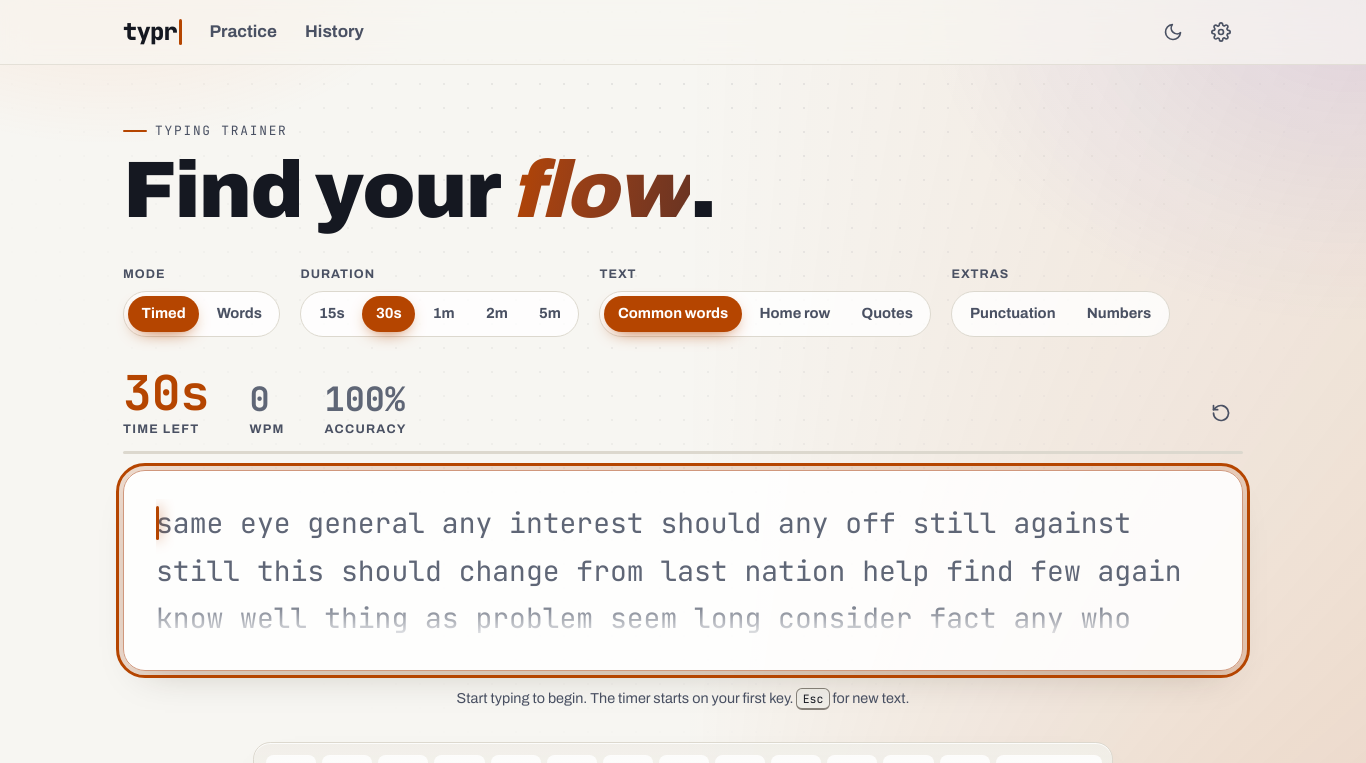
Test: App › home row mode only uses home row keys
Click the radio button labelled "Home row" at (795, 313), box 759,305 -> 830,321
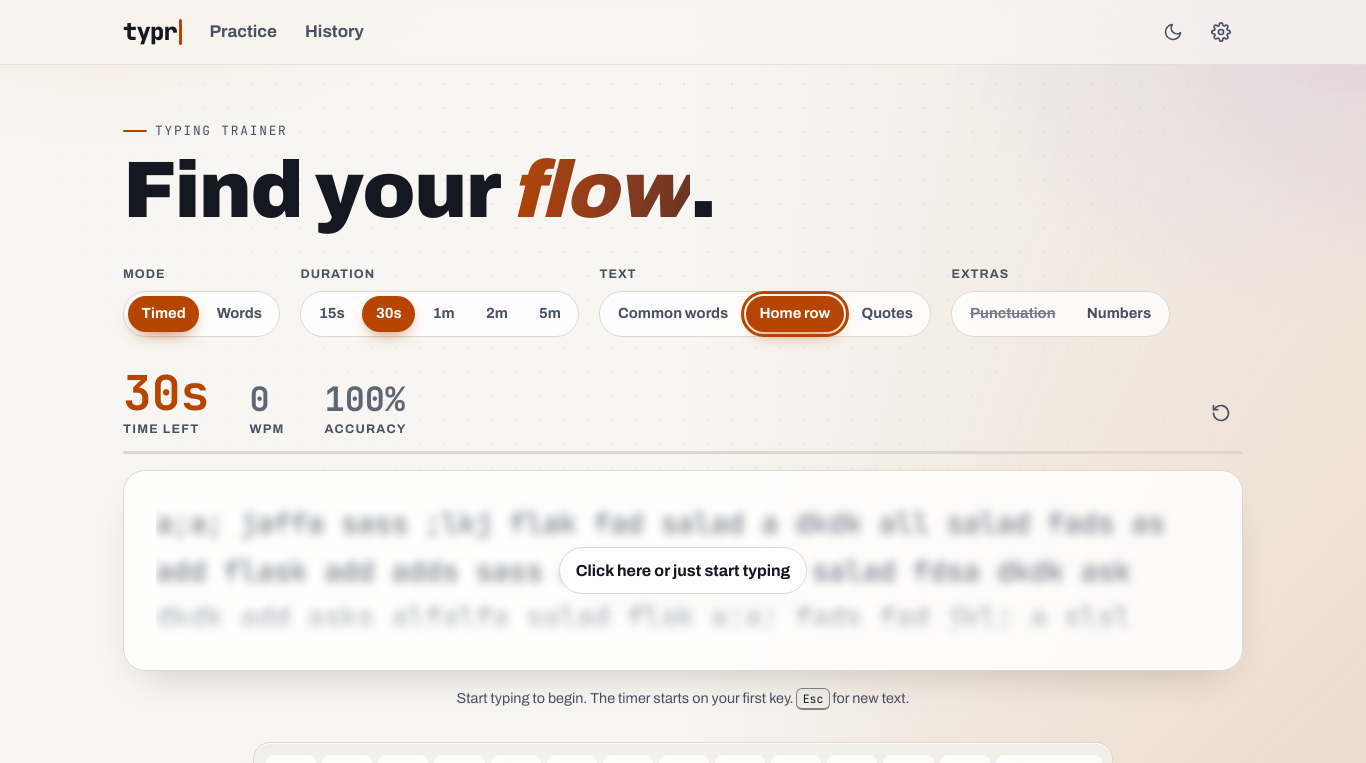
Result: the checkbox labelled "Punctuation" is disabled at 970,305 -> 1056,321
